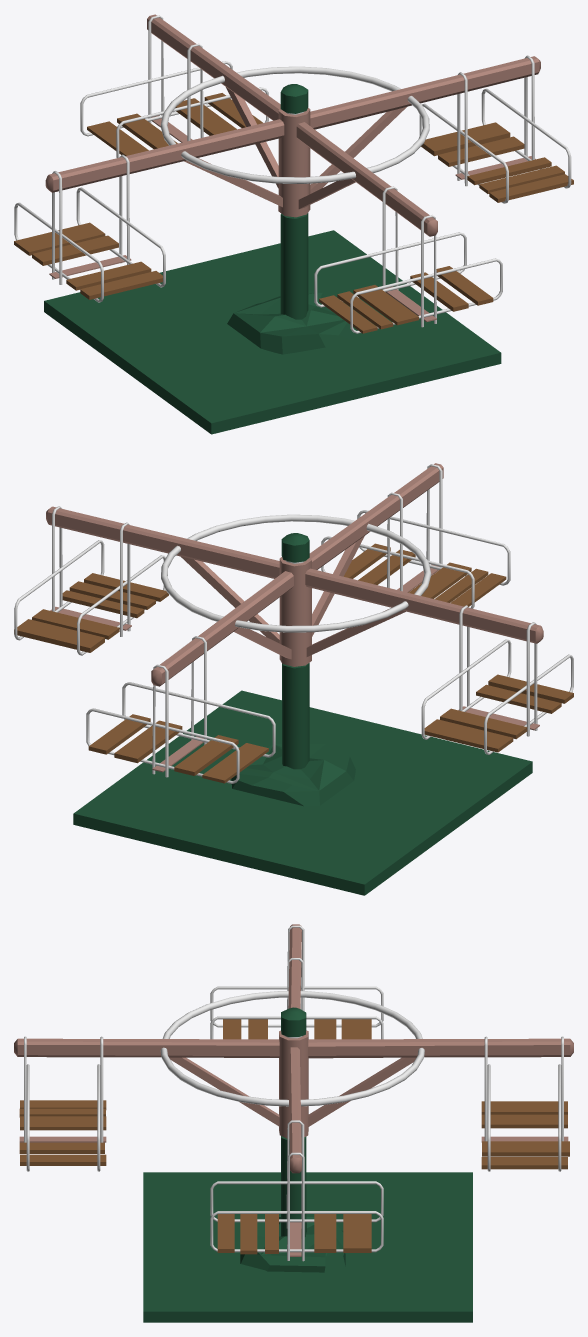
File: carousel.fbx
3 views of the same model, one above another, from view 1: azimuth 30°, elevation 25°; view 2: azimuth 150°, elevation 25°; view 3: azimuth 270°, elevation 25° (orthographic).
Visible parts, largest first — view 1: carousel_body, Plane, carousel_concrete_base, carousel_base; view 2: carousel_body, Plane, carousel_concrete_base, carousel_base; view 3: carousel_body, Plane, carousel_concrete_base, carousel_base.
Part boxes in pixels (bbox=[...]): carousel_body: bbox=[14, 14, 573, 333]; Plane: bbox=[44, 230, 501, 434]; carousel_concrete_base: bbox=[227, 290, 353, 354]; carousel_base: bbox=[280, 84, 308, 319]; carousel_body: bbox=[14, 463, 573, 783]; Plane: bbox=[73, 690, 532, 895]; carousel_concrete_base: bbox=[231, 744, 355, 806]; carousel_base: bbox=[281, 533, 309, 769]; carousel_body: bbox=[14, 924, 573, 1261]; Plane: bbox=[143, 1172, 472, 1322]; carousel_concrete_base: bbox=[240, 1217, 345, 1272]; carousel_base: bbox=[281, 1007, 306, 1238].
Size of the model in its own units: 3026 by 1489 by 3025.
